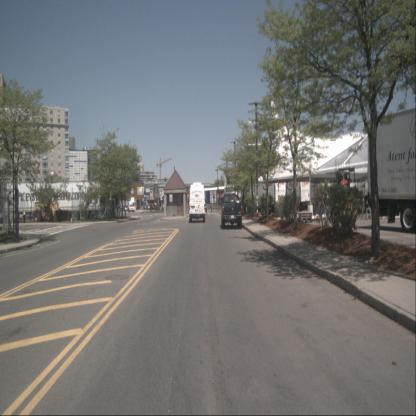vehicle-car: (188, 182, 206, 223)
vehicle-truck: (369, 108, 415, 234), (258, 175, 287, 214), (280, 176, 311, 212), (221, 192, 243, 230), (128, 197, 135, 213)
